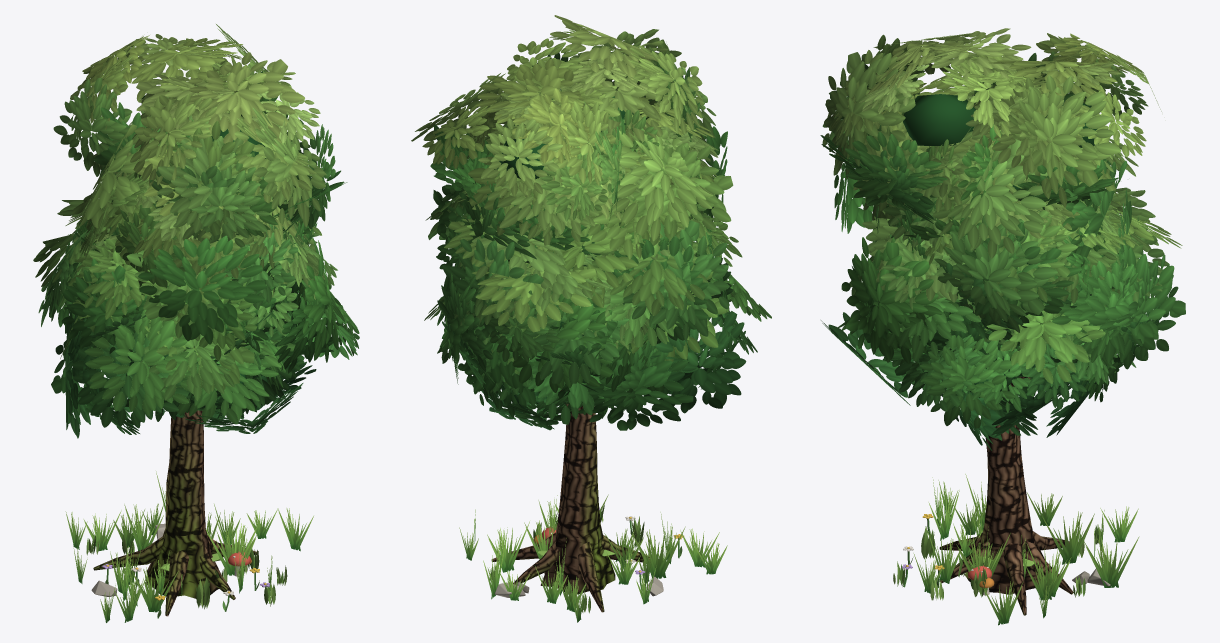
The model's file is tree_tall_lod1.gltf.
The picture shows the model from 3 angles, left to right: view 1: azimuth 30°, elevation 25°; view 2: azimuth 150°, elevation 25°; view 3: azimuth 270°, elevation 25°; orthographic projection. The views are drawn at different scales.
Parts seen in each view (by area): view 1: Canopy_summer, Trunk, Undergrowth, Base; view 2: Canopy_summer, Trunk, Undergrowth, Base; view 3: Canopy_summer, Undergrowth, Trunk, Base.
Boxes of the visible parts, x1,y1,x2,y2 form: Canopy_summer: (33,24,359,438); Trunk: (93,410,256,616); Undergrowth: (65,471,313,622); Base: (86,523,287,618); Canopy_summer: (411,15,771,430); Trunk: (491,390,649,612); Undergrowth: (459,494,727,622); Base: (488,504,684,613); Canopy_summer: (820,28,1185,450); Undergrowth: (913,474,1139,625); Trunk: (939,376,1073,615); Base: (893,514,1110,600).
Bounding box in the file's own units: 4.44 × 7.37 × 4.86.
Materials: 17 (2 with a texture image).
